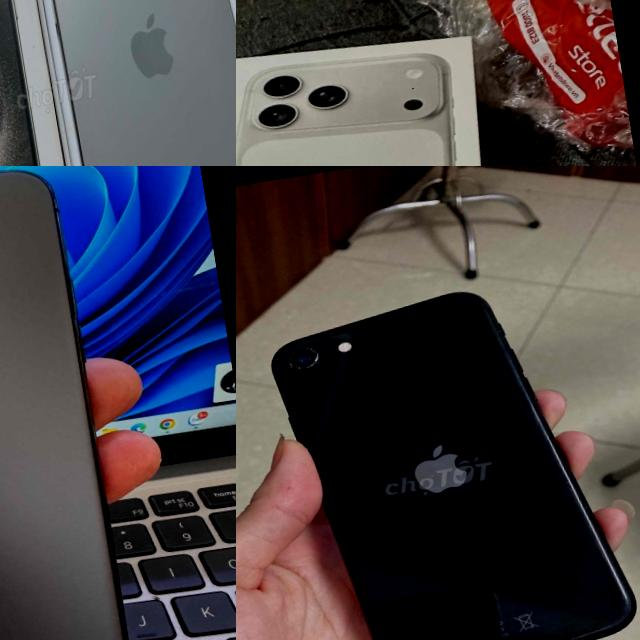gen_11: (265, 266, 640, 640), (0, 166, 173, 640)
gen_15: (18, 0, 236, 166)
gen_17: (236, 28, 495, 166)
